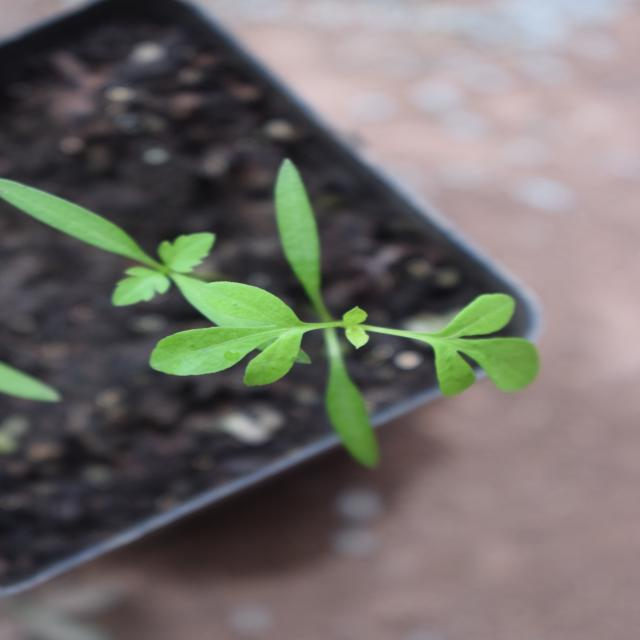Bidens pilosa: (189, 154, 476, 526)
